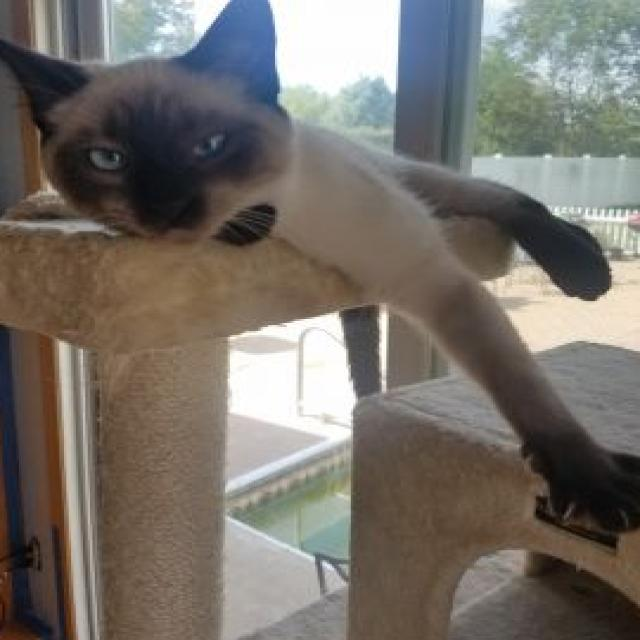Siamese: (0, 0, 640, 538)
